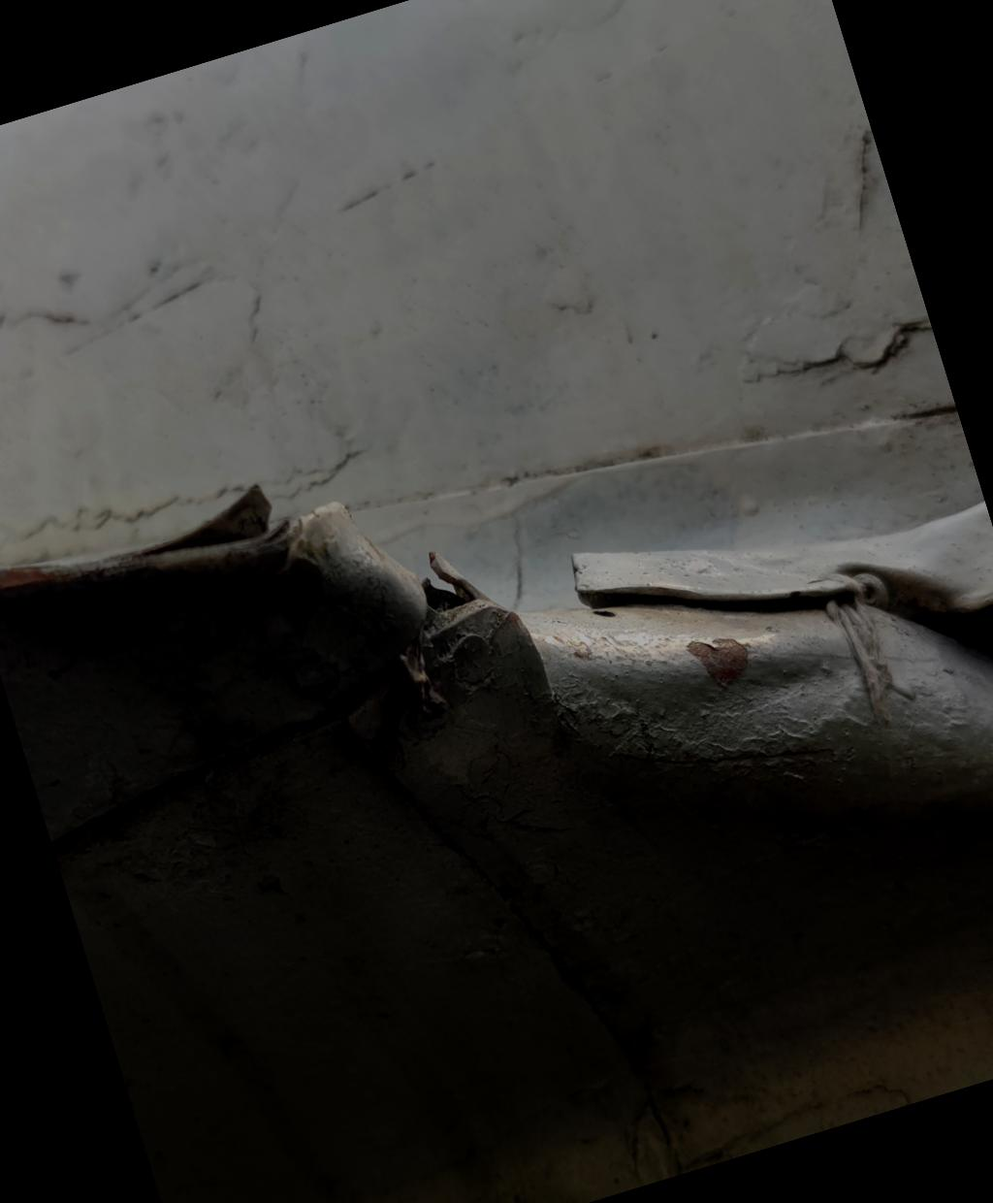crack: (85, 430, 369, 637), (358, 486, 540, 679)
